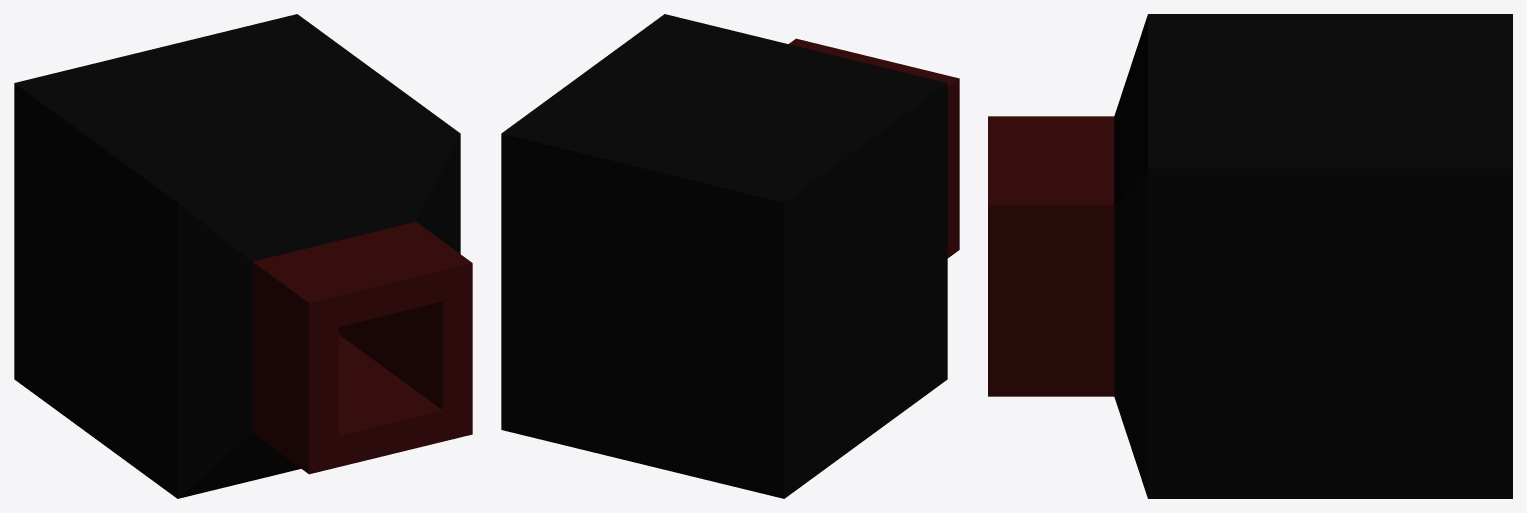
File: camera.obj
The picture shows the model from 3 angles, left to right: view 1: azimuth 30°, elevation 25°; view 2: azimuth 150°, elevation 25°; view 3: azimuth 270°, elevation 25°; orthographic projection. The views are drawn at different scales.
Visible parts, largest first — view 1: Cube.001, Cube.002; view 2: Cube.001, Cube.002; view 3: Cube.001, Cube.002.
Part boxes in pixels (box(x1,y1,x2,y2)): Cube.001: box(14, 14, 460, 498); Cube.002: box(252, 222, 472, 474); Cube.001: box(501, 14, 947, 498); Cube.002: box(788, 38, 959, 258); Cube.001: box(1114, 14, 1512, 498); Cube.002: box(988, 116, 1114, 396).
Bounding box in the file's own units: 1.68 × 1.68 × 2.41.
